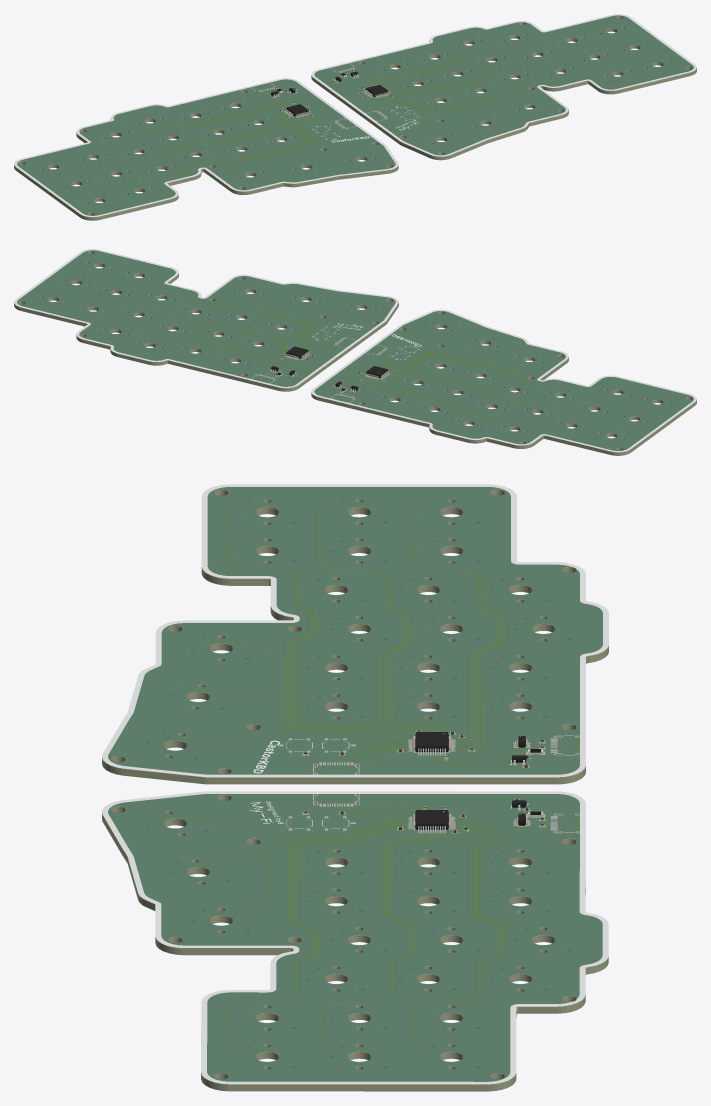
3 renders of one model, top to bottom at view 1: azimuth 30°, elevation 25°; view 2: azimuth 150°, elevation 25°; view 3: azimuth 270°, elevation 25°, orthographic. The views are drawn at different scales.
Visible parts, largest first — view 1: =>[0:1:1:19], =>[0:1:1:21], =>[0:1:1:22], =>[0:1:1:17], =>[0:1:1:15]; view 2: =>[0:1:1:19], =>[0:1:1:21], =>[0:1:1:22], =>[0:1:1:17], =>[0:1:1:15]; view 3: =>[0:1:1:19], =>[0:1:1:21], =>[0:1:1:22], =>[0:1:1:17], =>[0:1:1:15], =>[0:1:1:14], =>[0:1:1:20].
Part boxes in pixels (<box>): =>[0:1:1:19]: <box>17,15,693,217</box>; =>[0:1:1:21]: <box>311,16,696,159</box>; =>[0:1:1:22]: <box>14,80,398,220</box>; =>[0:1:1:17]: <box>14,14,696,217</box>; =>[0:1:1:15]: <box>46,23,666,206</box>; =>[0:1:1:19]: <box>15,250,695,451</box>; =>[0:1:1:21]: <box>14,251,398,391</box>; =>[0:1:1:22]: <box>311,311,696,455</box>; =>[0:1:1:17]: <box>14,249,696,452</box>; =>[0:1:1:15]: <box>34,260,674,438</box>; =>[0:1:1:19]: <box>104,487,607,1084</box>; =>[0:1:1:21]: <box>102,794,608,1091</box>; =>[0:1:1:22]: <box>102,487,608,784</box>; =>[0:1:1:17]: <box>102,484,608,1084</box>; =>[0:1:1:15]: <box>143,500,579,1068</box>; =>[0:1:1:14]: <box>169,504,579,1044</box>; =>[0:1:1:20]: <box>102,514,608,1091</box>.
Bounding box in the file's own units: 0.2938 × 0.00322 × 0.105.
